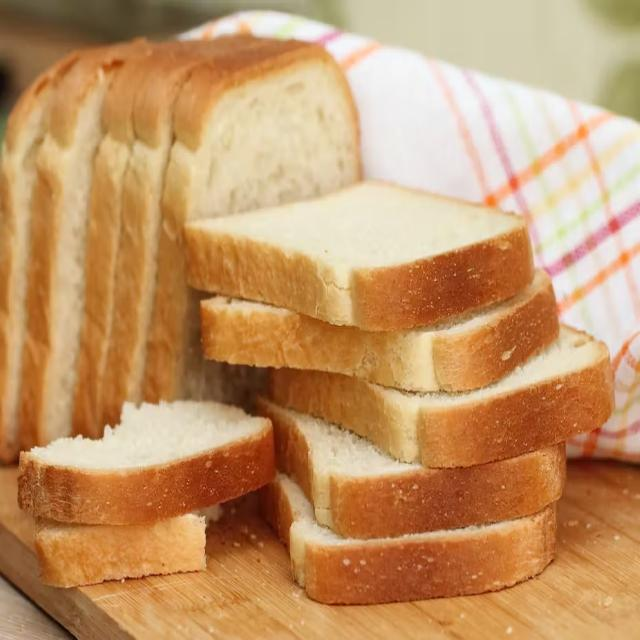Bread: (0, 29, 369, 589), (181, 162, 618, 610), (161, 166, 542, 339), (16, 372, 275, 535)
